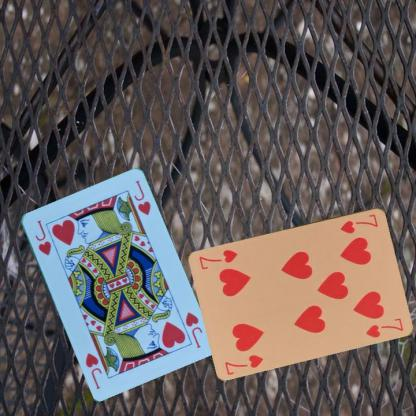7h: (222, 352, 264, 376), (338, 211, 380, 234)
Jh: (182, 309, 203, 350), (32, 217, 52, 257)
